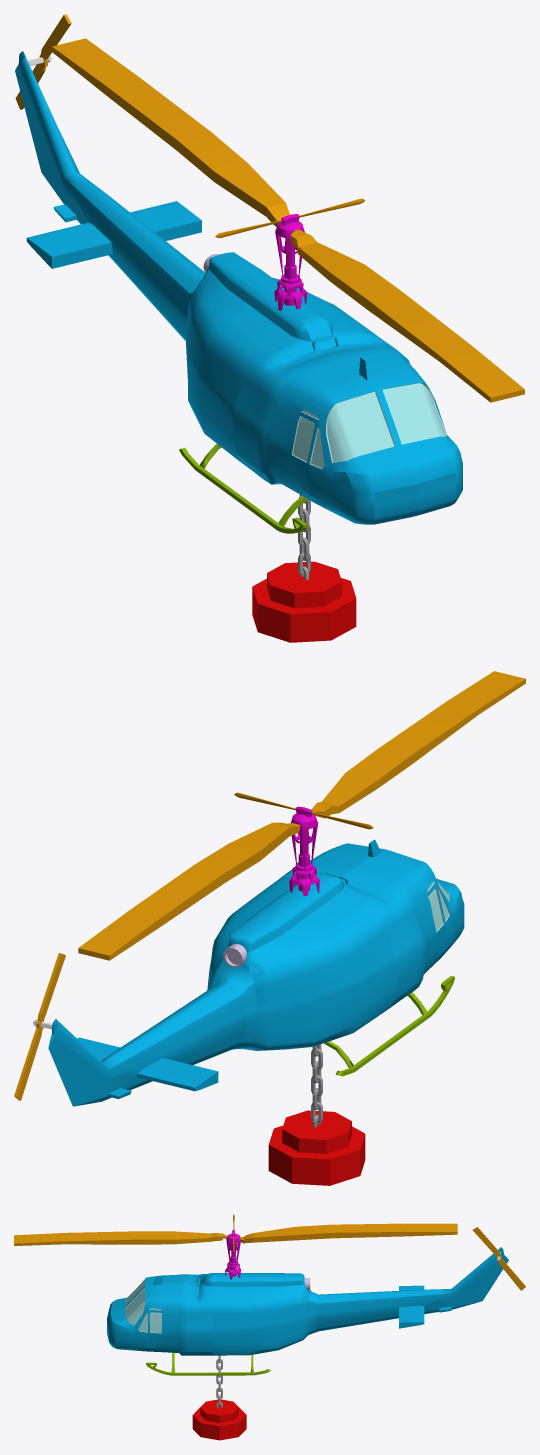
Rendered from cg_PlayerHelicopter.fbx.
3 views of the same model, one above another, from view 1: azimuth 30°, elevation 25°; view 2: azimuth 150°, elevation 25°; view 3: azimuth 270°, elevation 25° (orthographic). The views are drawn at different scales.
Visible parts, largest first — view 1: Body, pCube2, pCylinder14, Sled, pCube4, MASH1_ReproMesh1, pCylinder8; view 2: Body, pCube2, pCylinder14, Sled, pCube4, MASH1_ReproMesh1, pCylinder8; view 3: Body, pCube2, pCylinder14, Sled, pCube4, MASH1_ReproMesh1.
Boxes of the visible parts, x1=… form: Body: x1=15, y1=51, x2=462, y2=524; pCube2: x1=52, y1=38, x2=524, y2=402; pCylinder14: x1=252, y1=561, x2=356, y2=642; Sled: x1=179, y1=444, x2=307, y2=533; pCube4: x1=15, y1=14, x2=71, y2=109; MASH1_ReproMesh1: x1=298, y1=494, x2=310, y2=579; pCylinder8: x1=275, y1=221, x2=304, y2=280; Body: x1=48, y1=840, x2=464, y2=1106; pCube2: x1=78, y1=671, x2=525, y2=960; pCylinder14: x1=268, y1=1110, x2=365, y2=1185; Sled: x1=324, y1=976, x2=454, y2=1076; pCube4: x1=14, y1=953, x2=65, y2=1100; MASH1_ReproMesh1: x1=311, y1=1044, x2=322, y2=1127; pCylinder8: x1=291, y1=813, x2=318, y2=868; Body: x1=107, y1=1247, x2=508, y2=1355; pCube2: x1=14, y1=1223, x2=457, y2=1245; pCylinder14: x1=192, y1=1399, x2=246, y2=1440; Sled: x1=146, y1=1352, x2=270, y2=1375; pCube4: x1=472, y1=1227, x2=525, y2=1290; MASH1_ReproMesh1: x1=216, y1=1355, x2=222, y2=1407.
Bounding box in the file's own units: 367 × 927 × 2063.
